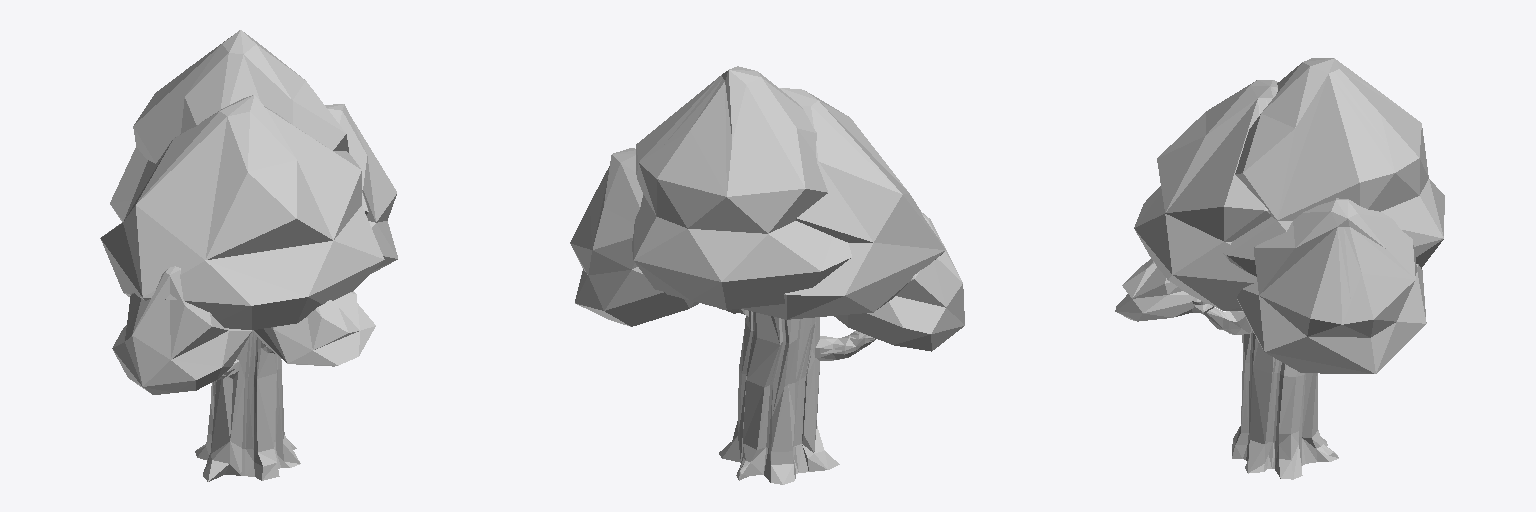
The model's file is tree_maple_01.obj.
3 views of the same model, side by side, from view 1: azimuth 30°, elevation 25°; view 2: azimuth 150°, elevation 25°; view 3: azimuth 270°, elevation 25° (orthographic).
Parts seen in each view (by area): view 1: MapleTree_geo_01 treeLeaves_geo_06, MapleTree_geo_01 treeLeaves_geo_012, treeLeaves_geo_07 MapleTree_geo_01, MapleTree_geo_01 treeTrunk_Geo_07, MapleTree_geo_01 treeLeaves_geo_08, MapleTree_geo_01 treeLeaves_geo_011; view 2: MapleTree_geo_01 treeLeaves_geo_012, MapleTree_geo_01 treeLeaves_geo_06, MapleTree_geo_01 treeTrunk_Geo_07, MapleTree_geo_01 treeLeaves_geo_011, treeLeaves_geo_07 MapleTree_geo_01; view 3: MapleTree_geo_01 treeLeaves_geo_012, MapleTree_geo_01 treeLeaves_geo_011, MapleTree_geo_01 treeLeaves_geo_06, MapleTree_geo_01 treeTrunk_Geo_07, MapleTree_geo_01 treeLeaves_geo_08.
Part boxes in pixels (bbox=[...]): MapleTree_geo_01 treeLeaves_geo_06: bbox=[100, 95, 384, 329]; MapleTree_geo_01 treeLeaves_geo_012: bbox=[110, 30, 368, 221]; treeLeaves_geo_07 MapleTree_geo_01: bbox=[112, 266, 251, 394]; MapleTree_geo_01 treeTrunk_Geo_07: bbox=[195, 331, 300, 481]; MapleTree_geo_01 treeLeaves_geo_08: bbox=[252, 291, 375, 366]; MapleTree_geo_01 treeLeaves_geo_011: bbox=[325, 104, 397, 273]; MapleTree_geo_01 treeLeaves_geo_012: bbox=[632, 66, 851, 309]; MapleTree_geo_01 treeLeaves_geo_06: bbox=[742, 88, 945, 319]; MapleTree_geo_01 treeTrunk_Geo_07: bbox=[719, 308, 875, 484]; MapleTree_geo_01 treeLeaves_geo_011: bbox=[570, 148, 698, 326]; treeLeaves_geo_07 MapleTree_geo_01: bbox=[834, 212, 964, 351]; MapleTree_geo_01 treeLeaves_geo_012: bbox=[1223, 58, 1444, 276]; MapleTree_geo_01 treeLeaves_geo_011: bbox=[1237, 198, 1426, 373]; MapleTree_geo_01 treeLeaves_geo_06: bbox=[1134, 80, 1277, 310]; MapleTree_geo_01 treeTrunk_Geo_07: bbox=[1201, 307, 1338, 479]; MapleTree_geo_01 treeLeaves_geo_08: bbox=[1115, 259, 1194, 321].
Size of the model in its own units: 7.77 by 9.47 by 6.95.